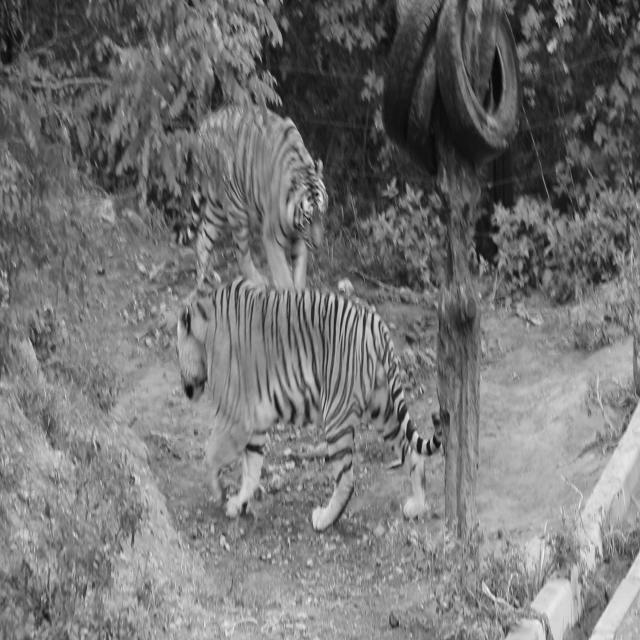Tiger: (176, 274, 442, 532), (171, 100, 329, 293)
